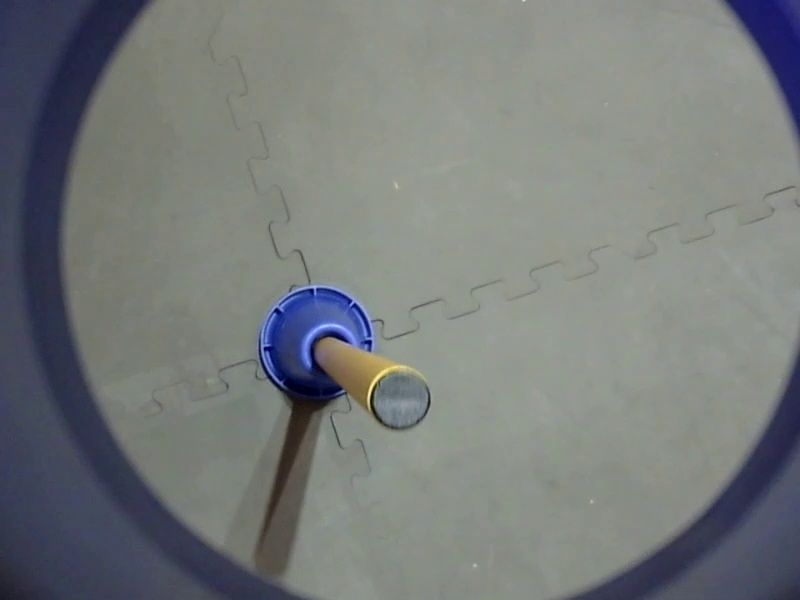tip: (362, 361, 435, 436)
